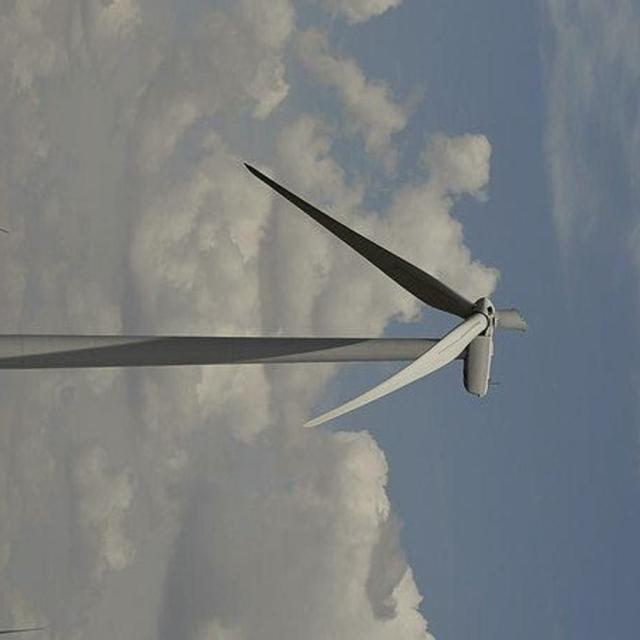crack: (483, 299, 553, 342)
